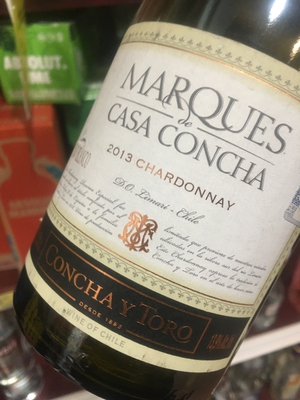marques de casa concha chardonnay: (25, 4, 300, 383)
